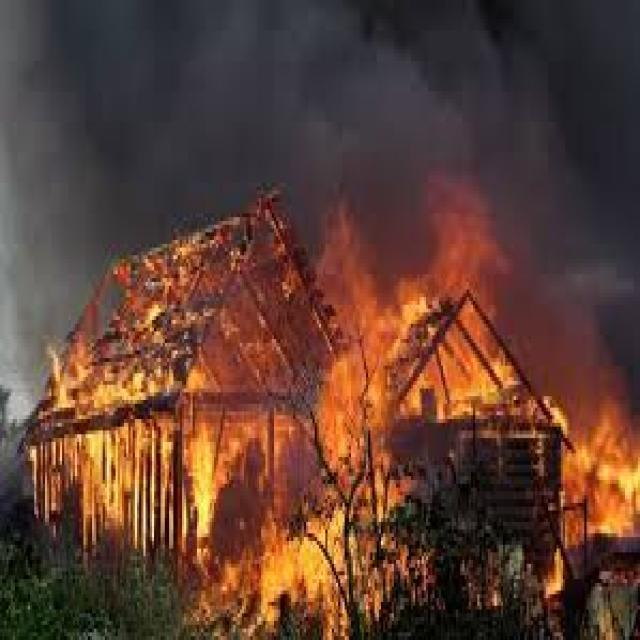Fire: (43, 242, 631, 637)
Smoke: (0, 0, 639, 308)
